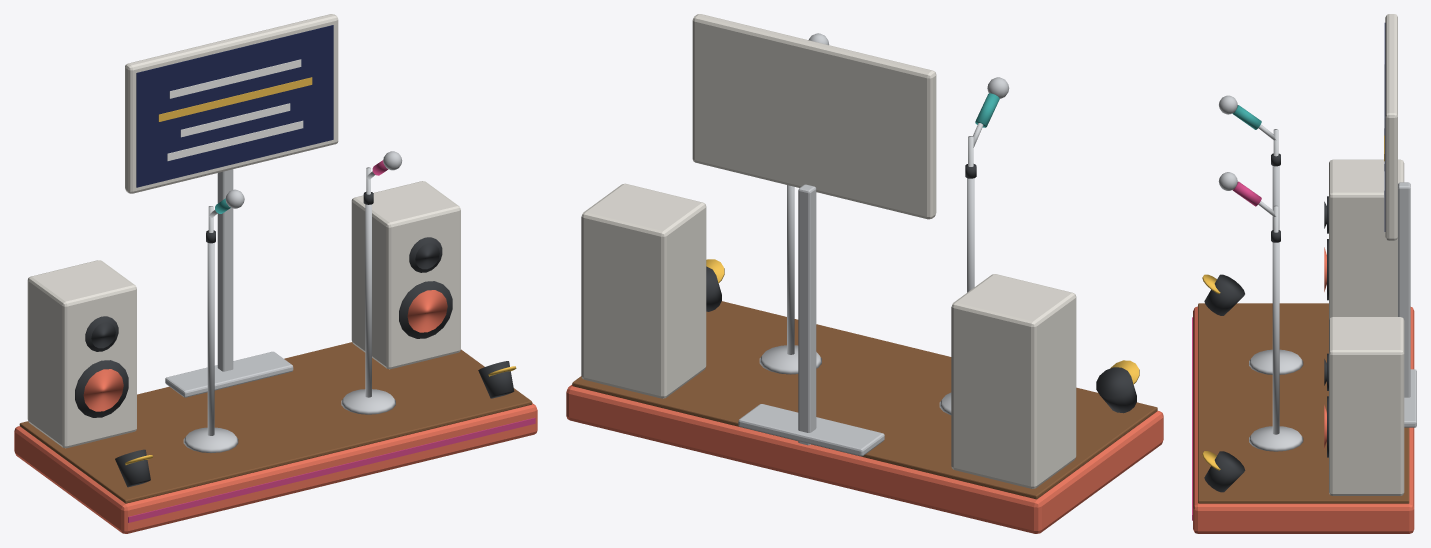
Rendered from karaokeStage.glb.
3 renders of one model, left to right at view 1: azimuth 30°, elevation 25°; view 2: azimuth 150°, elevation 25°; view 3: azimuth 270°, elevation 25°, orthographic. The views are drawn at different scales.
Visible parts, largest first — view 1: body, mics; view 2: body, mics; view 3: body, mics.
Part boxes in pixels (left/top/right/bottom): body: left=14, top=14, right=537, bottom=533; mics: left=208, top=151, right=402, bottom=232; body: left=566, top=14, right=1163, bottom=533; mics: left=808, top=33, right=1009, bottom=166; body: left=1192, top=14, right=1416, bottom=533; mics: left=1218, top=95, right=1278, bottom=232.
Size of the model in its own units: 1.9 by 1.63 by 0.894.
